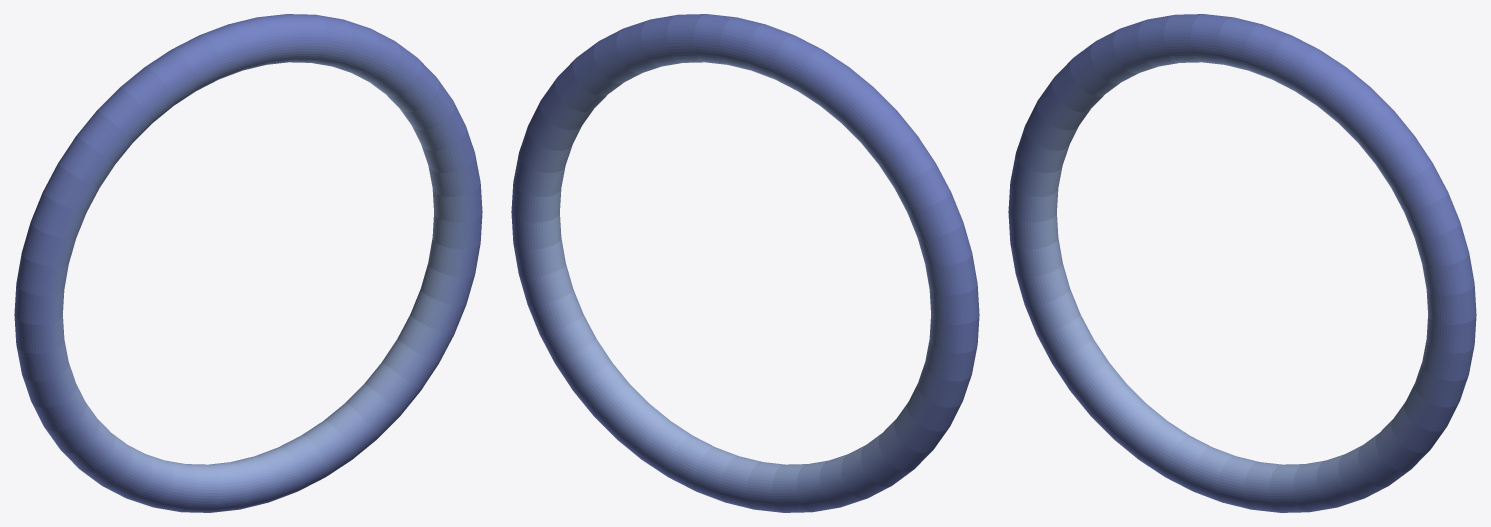
3 views of the same model, side by side, from view 1: azimuth 30°, elevation 25°; view 2: azimuth 150°, elevation 25°; view 3: azimuth 330°, elevation 25° (orthographic).
Visible parts, largest first — view 1: world; view 2: world; view 3: world.
Part boxes in pixels (x1,y1,x2,y2): world: (14,14,482,512); world: (511,14,979,512); world: (1008,14,1476,512).
Size of the model in its own units: 27.87 by 27.81 by 2.53.
